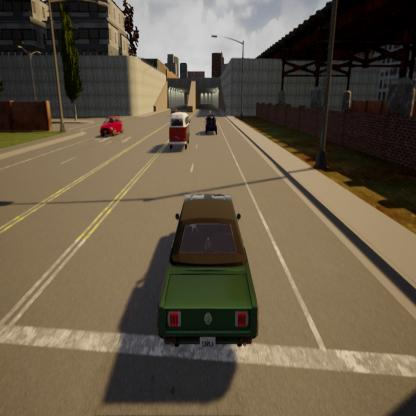Cars: (158, 193, 260, 352), (169, 112, 191, 150), (99, 112, 123, 136), (205, 112, 218, 137)
